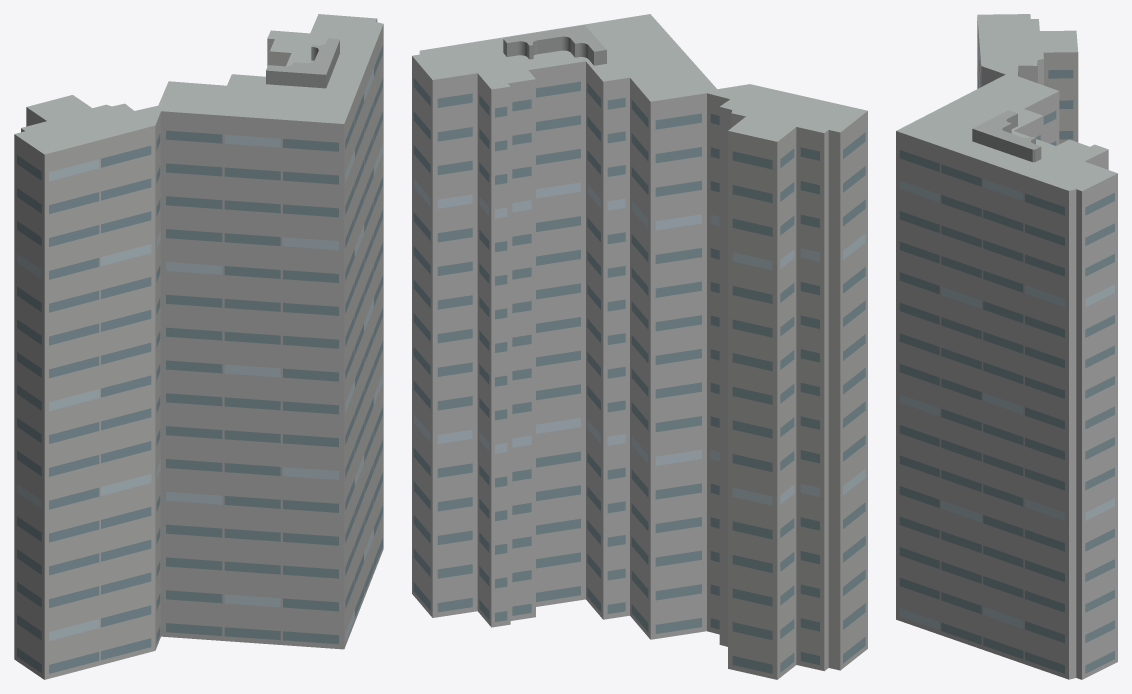
File: fallback-godeok-arteon-326.glb
The picture shows the model from 3 angles, left to right: view 1: azimuth 30°, elevation 25°; view 2: azimuth 150°, elevation 25°; view 3: azimuth 270°, elevation 25°; orthographic projection. The views are drawn at different scales.
Visible parts, largest first — view 1: fallback-godeok-arteon-326; view 2: fallback-godeok-arteon-326; view 3: fallback-godeok-arteon-326.
Part boxes in pixels (<box>): fallback-godeok-arteon-326: <box>14,14,383,679</box>; fallback-godeok-arteon-326: <box>412,14,867,679</box>; fallback-godeok-arteon-326: <box>896,14,1117,679</box>.
Size of the model in its own units: 72.06 by 95 by 38.11.
